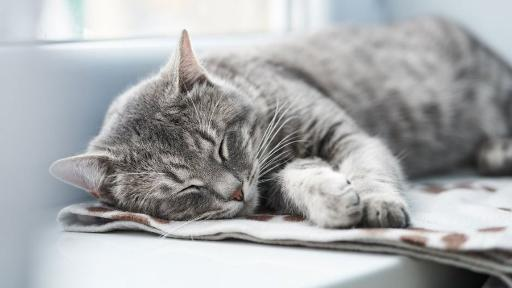cat_sleeping: (51, 16, 511, 228)
